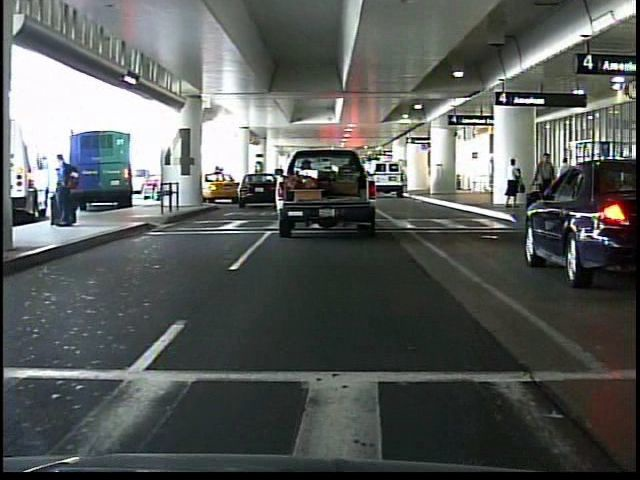person: (49, 146, 83, 236), (533, 149, 558, 216), (502, 155, 526, 210), (556, 154, 574, 171)
